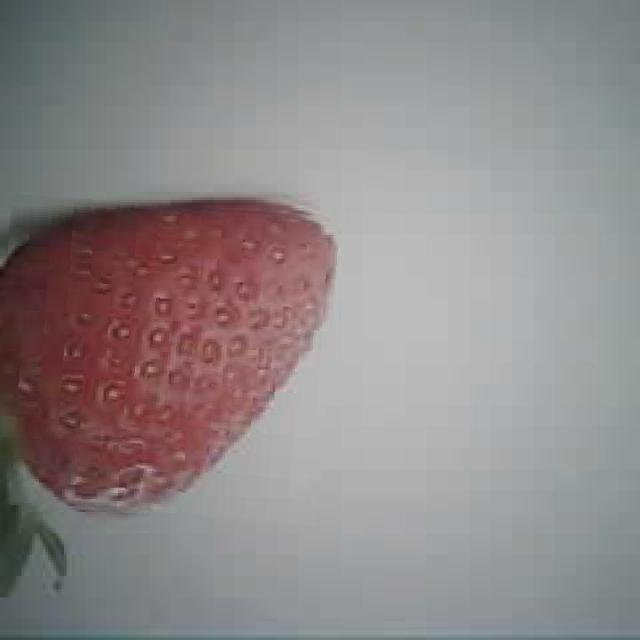strawberry: (0, 200, 335, 521)
